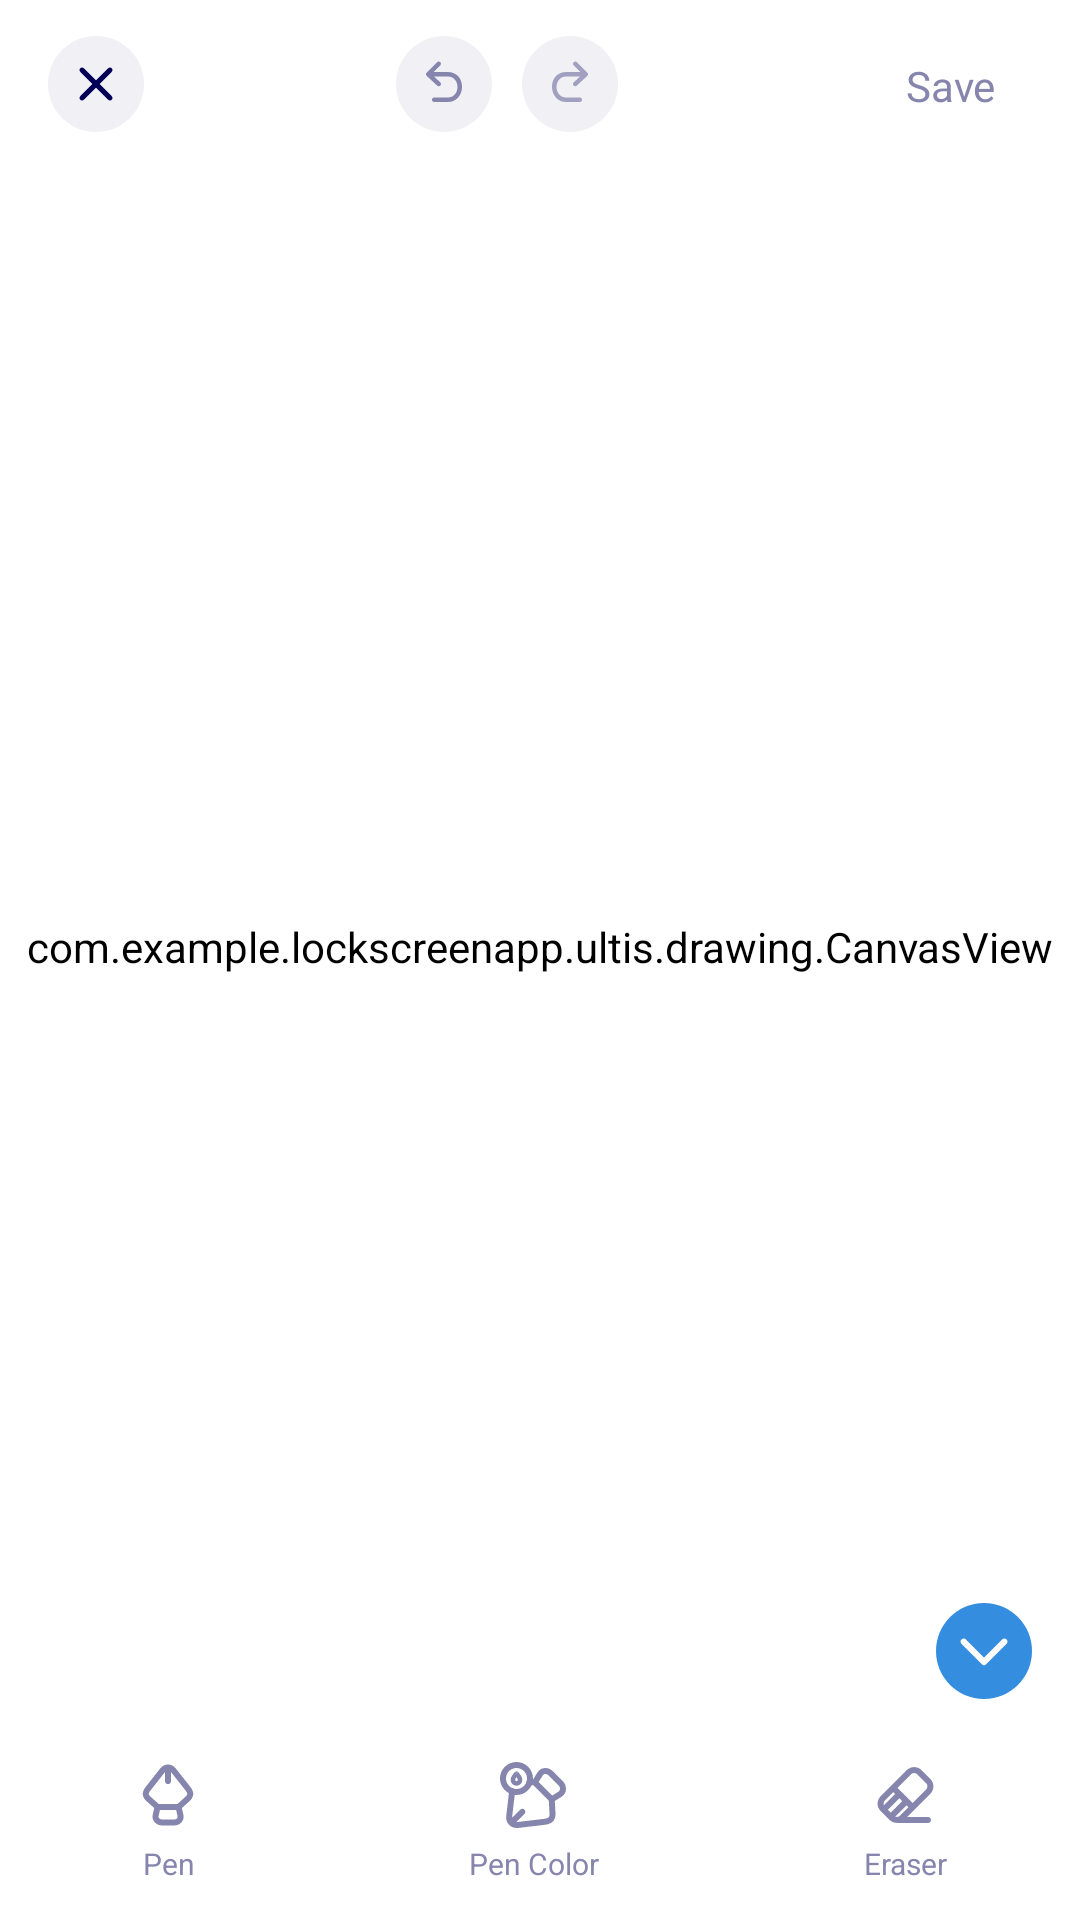

Named icons in this screenshot (1080px×1920px) and their centers, (x=x, y=y):
close draw: (x=96, y=84)
collap draw: (x=984, y=1651)
redo disable: (x=570, y=84)
undo disable: (x=444, y=84)
